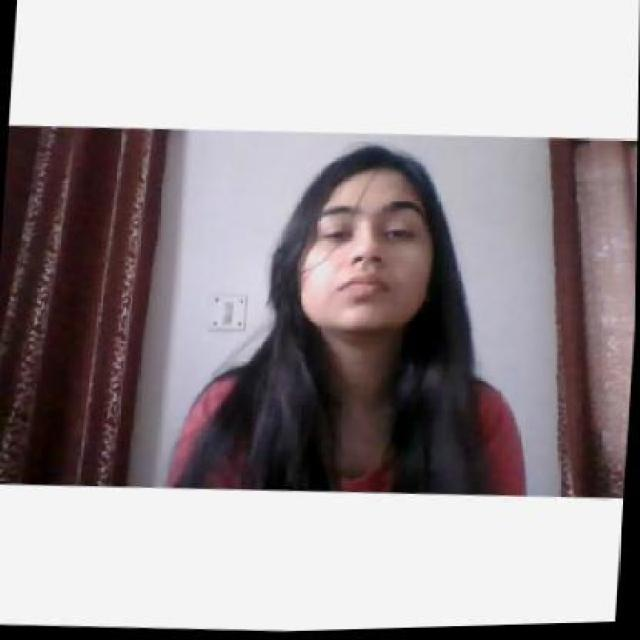attentif: (293, 143, 438, 337)
